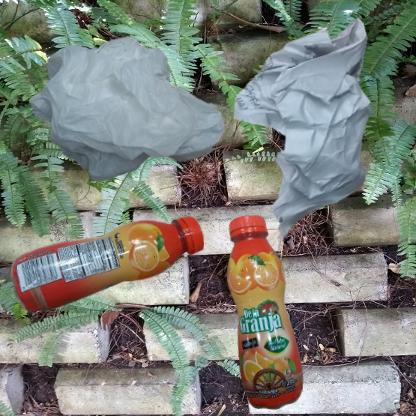bolsa: (10, 10, 275, 245)
botella: (213, 213, 322, 416), (10, 213, 206, 315)
papel: (213, 10, 416, 262)
